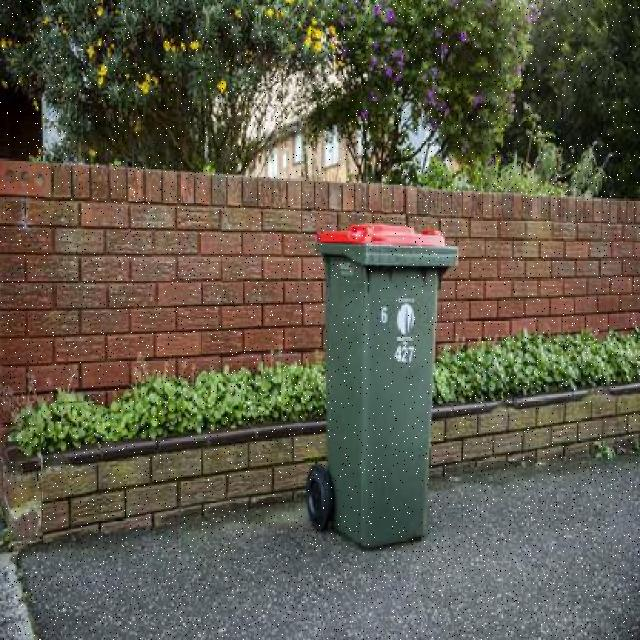garbage container: (304, 213, 465, 567)
